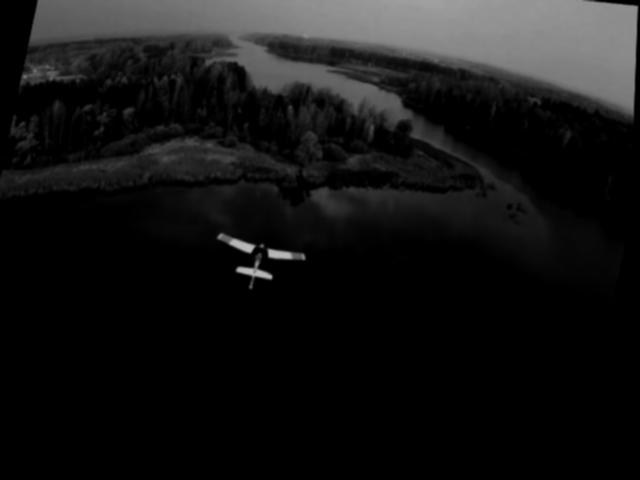hedef: (203, 220, 320, 308)
